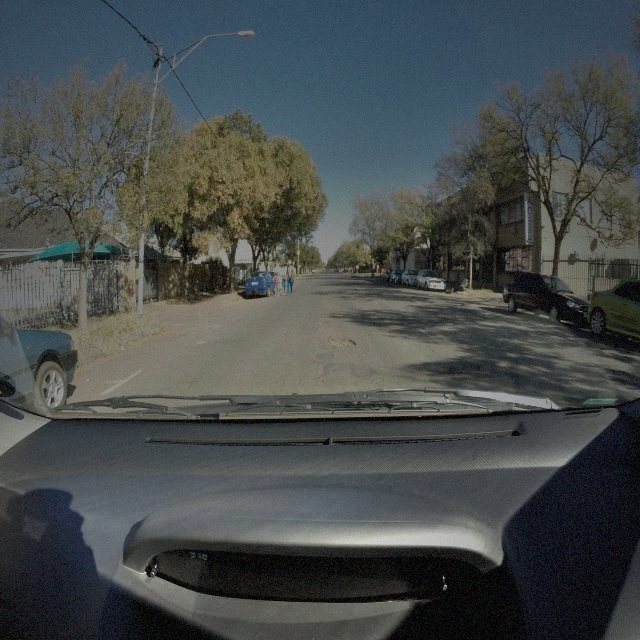pothole: (326, 334, 357, 352)
